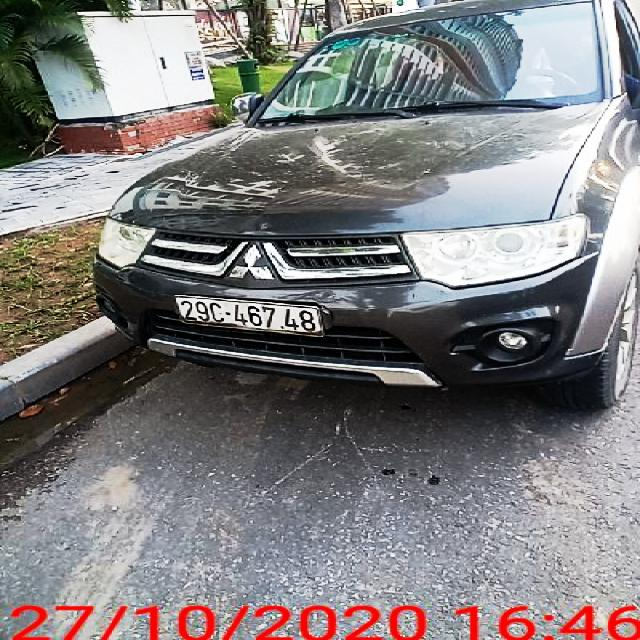license_plate: (179, 296, 326, 339)
